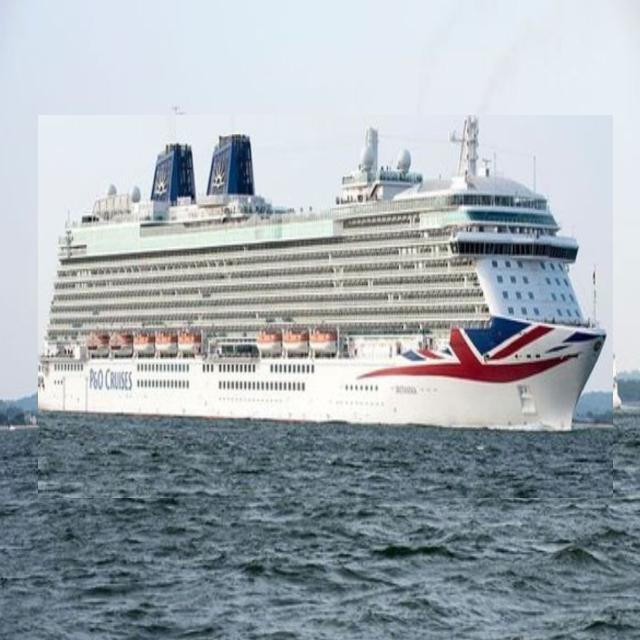PassengerShip: (38, 115, 613, 498)
